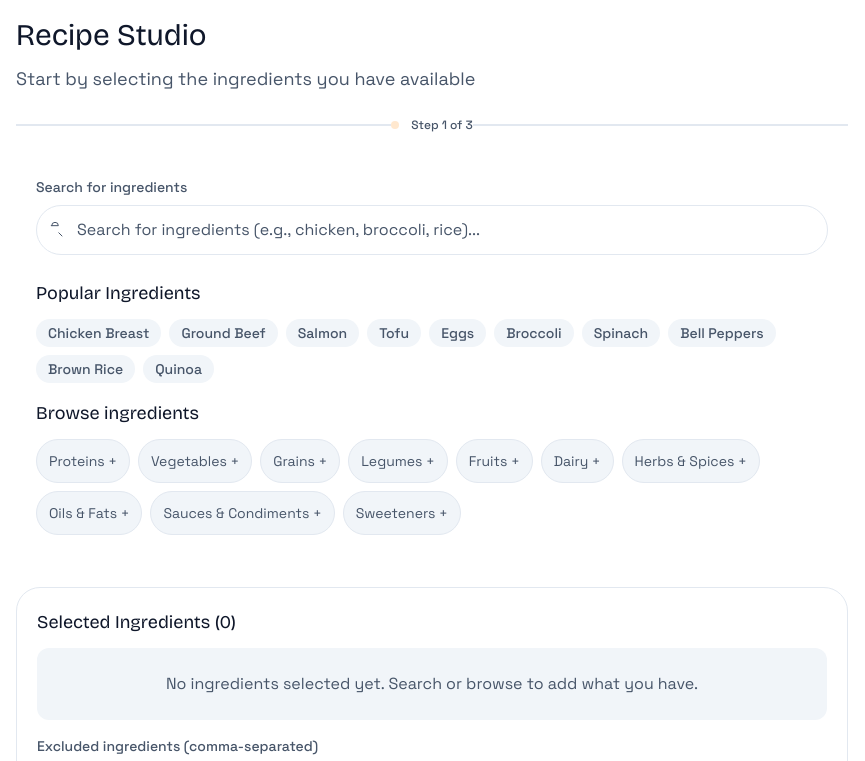
HTTP 502 shows the correct user-facing error after a successful health check
Type "Lentil" into the search field labelled "Search for ingredients" at (432, 230), box [36, 205, 828, 255]
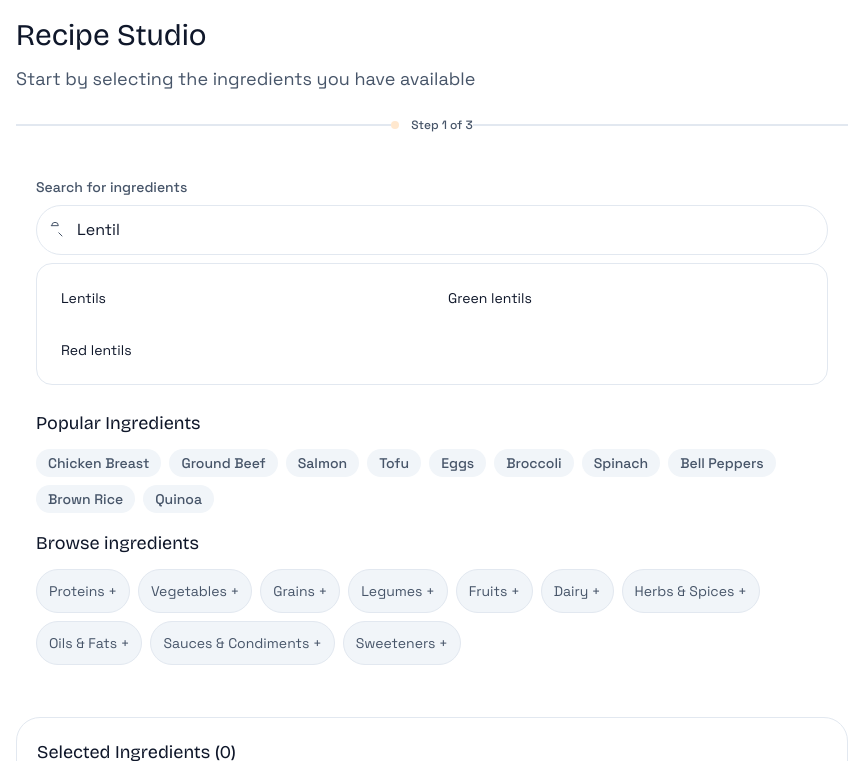
Click the button "Lentils" at (83, 298), box [49, 276, 428, 320]
(page scrolled)
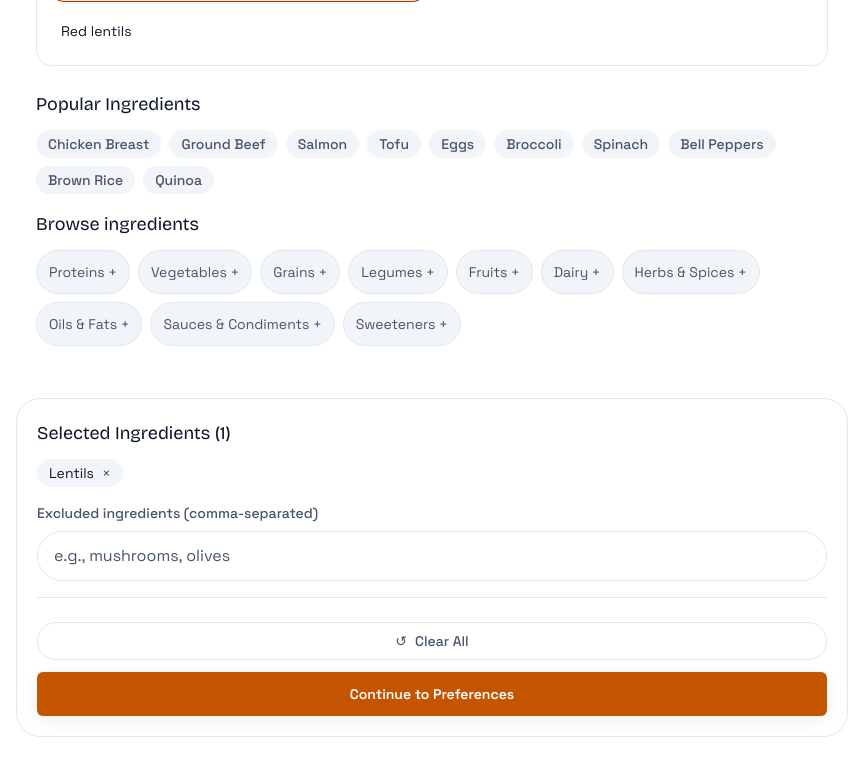
Click the button "Continue to Preferences" at (432, 694), box [37, 672, 827, 716]
(page scrolled)
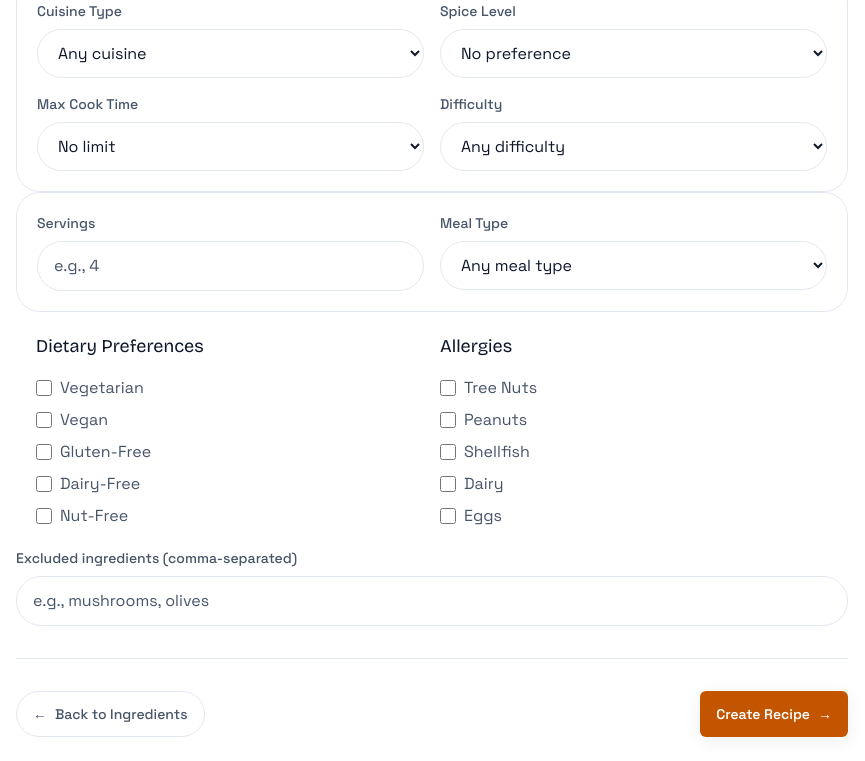
Click the button "Create Recipe →" at (774, 714), box [700, 691, 848, 737]
(page scrolled)
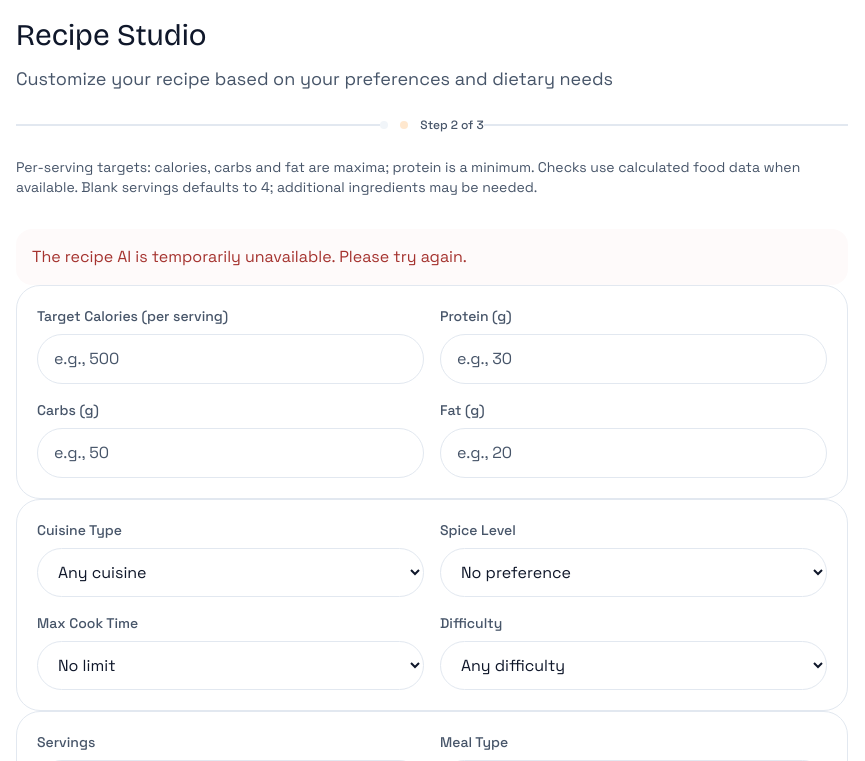
Check: the message does not show "private", box [16, 229, 848, 285]
Check: the message shows "The recipe AI is temporarily unavailable", box [32, 246, 467, 267]
